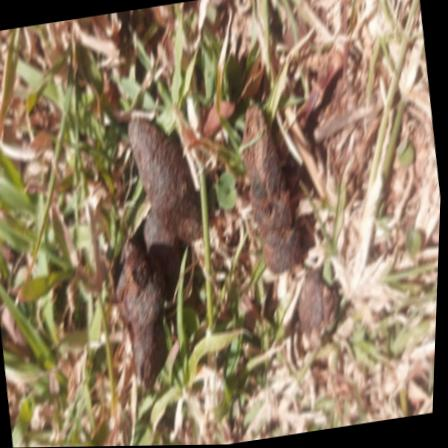dog-poop: (211, 91, 353, 365), (75, 107, 211, 385)
